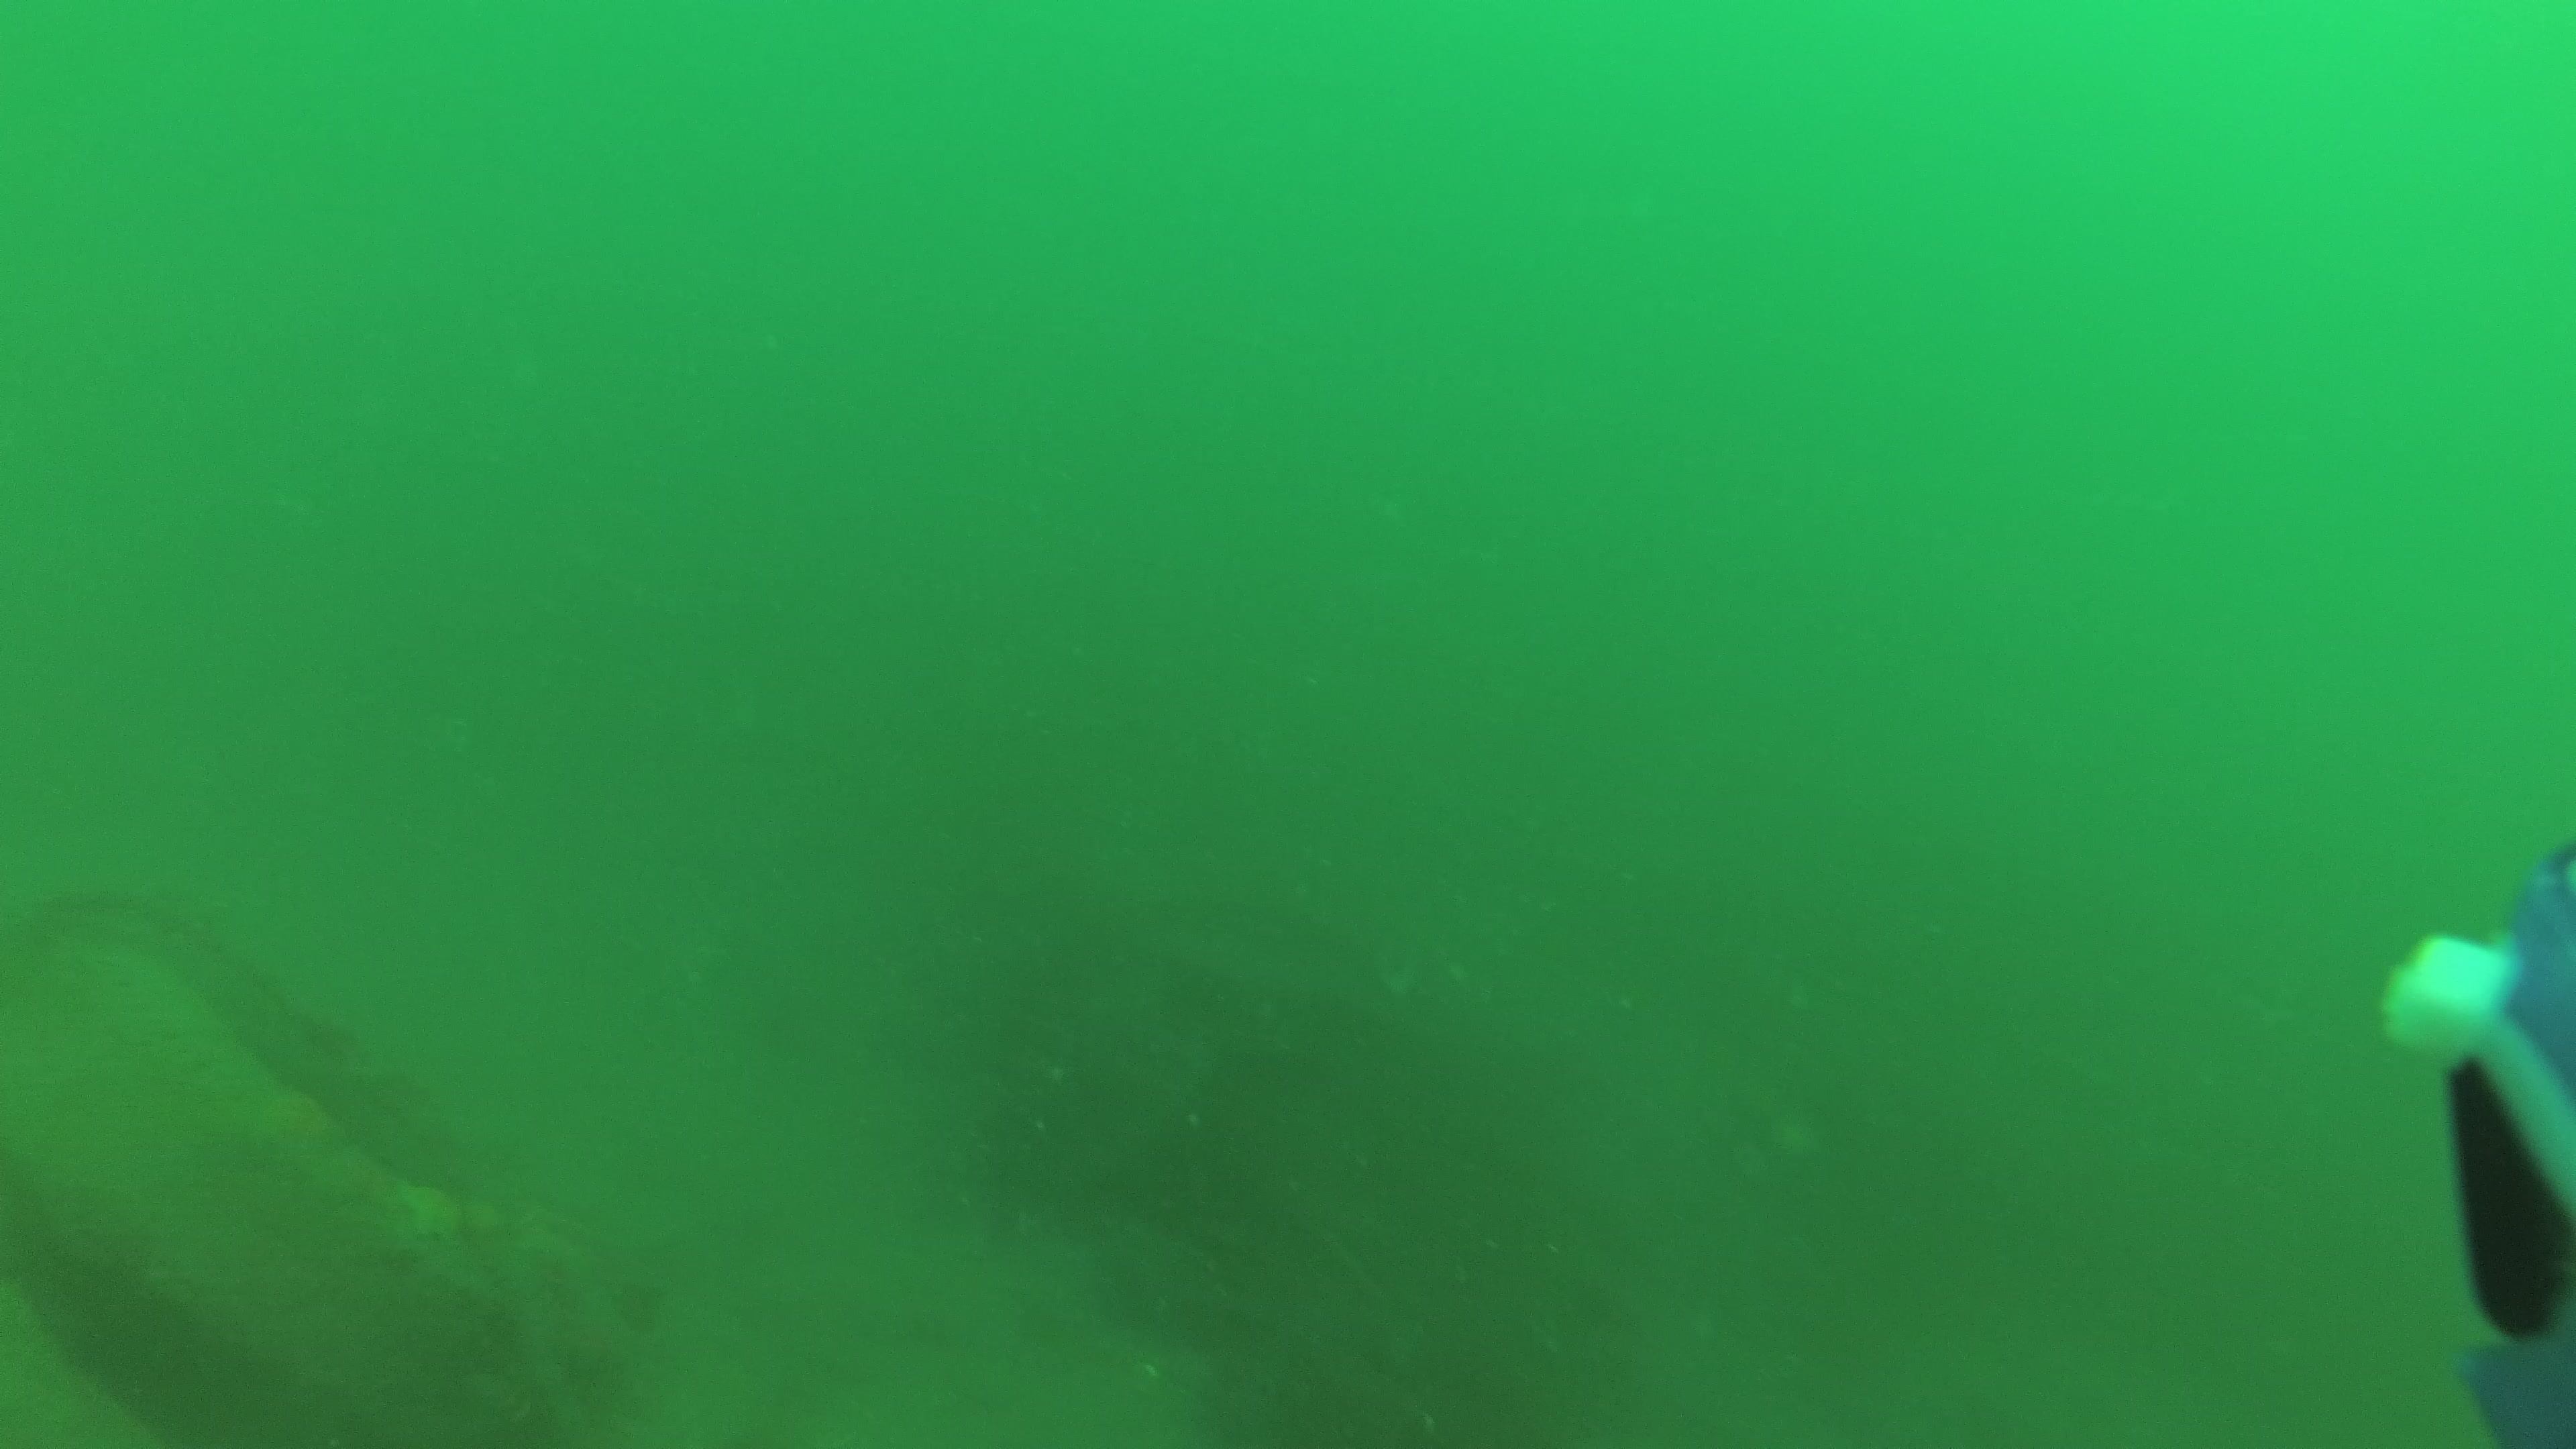starfish: (239, 1086, 347, 1192), (391, 1155, 469, 1253)
